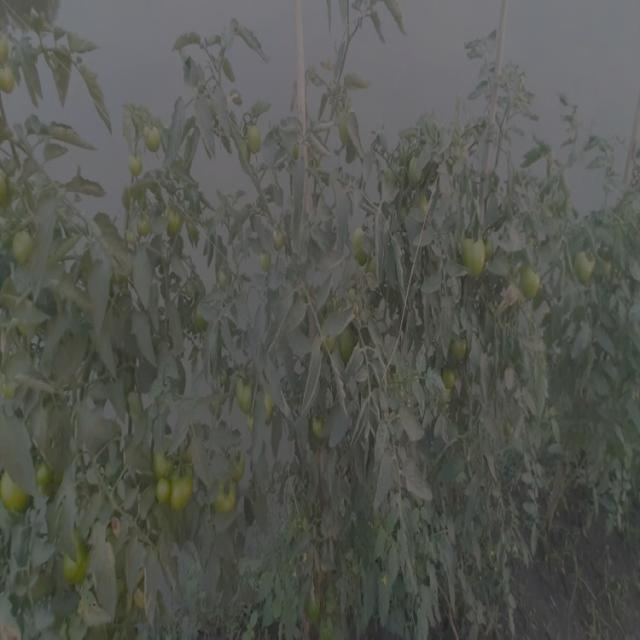tomato: (452, 228, 493, 277), (349, 218, 383, 273), (238, 112, 272, 159), (326, 318, 360, 362), (574, 241, 603, 289), (7, 224, 40, 266), (403, 153, 438, 191), (2, 469, 29, 518), (139, 121, 169, 165), (169, 471, 198, 516), (63, 545, 90, 592), (214, 477, 244, 518), (444, 328, 474, 367), (518, 257, 546, 297), (32, 455, 62, 491), (159, 200, 187, 235), (236, 373, 257, 413), (256, 379, 279, 415), (309, 412, 335, 443), (151, 445, 177, 474), (1, 63, 21, 100), (269, 218, 291, 247), (132, 207, 152, 238), (317, 382, 337, 411), (155, 479, 170, 509)
